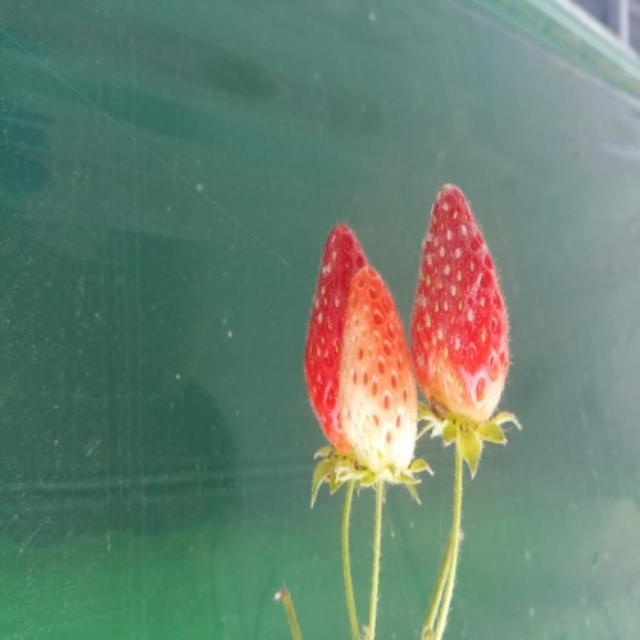Powdery Mildew Fruit: (305, 225, 419, 474), (408, 182, 510, 429)
